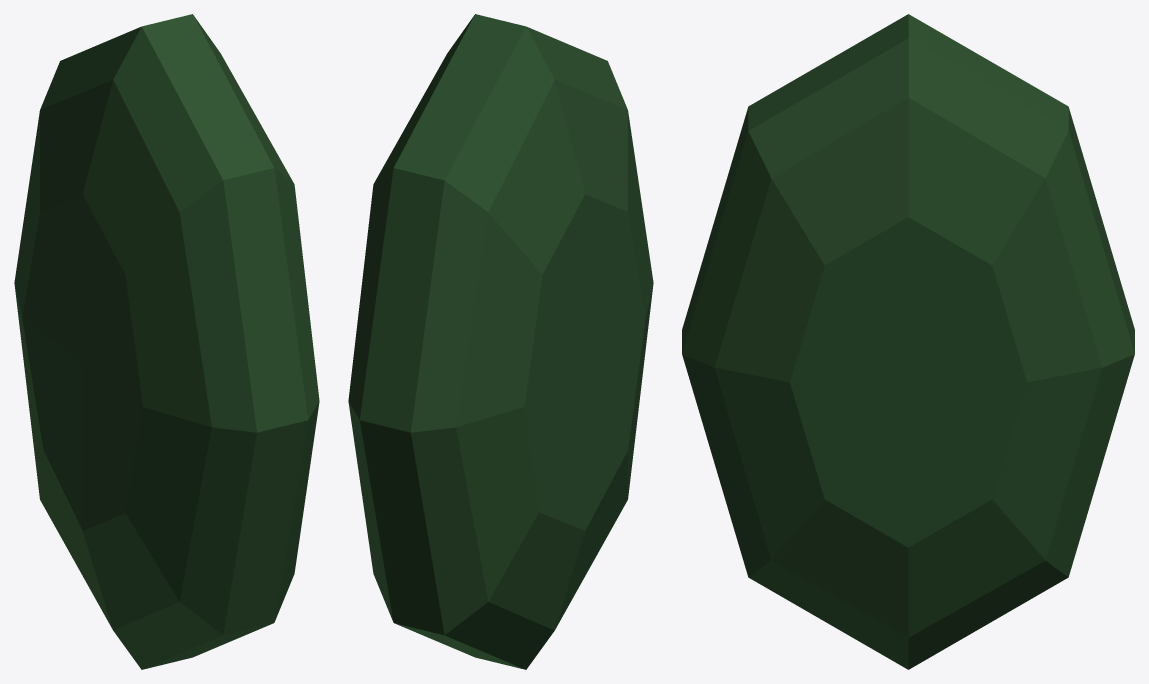
File: SM_Opal.glb
The picture shows the model from 3 angles, left to right: view 1: azimuth 30°, elevation 25°; view 2: azimuth 150°, elevation 25°; view 3: azimuth 270°, elevation 25°; orthographic projection.
Parts seen in each view (by area): view 1: SM_Opal; view 2: SM_Opal; view 3: SM_Opal.
Part boxes in pixels (x1,y1,x2,y2): SM_Opal: [14, 14, 319, 669]; SM_Opal: [348, 14, 653, 669]; SM_Opal: [682, 14, 1134, 669].
Size of the model in its own units: 0.055 by 0.2 by 0.13.
1 material, 1 textured.
